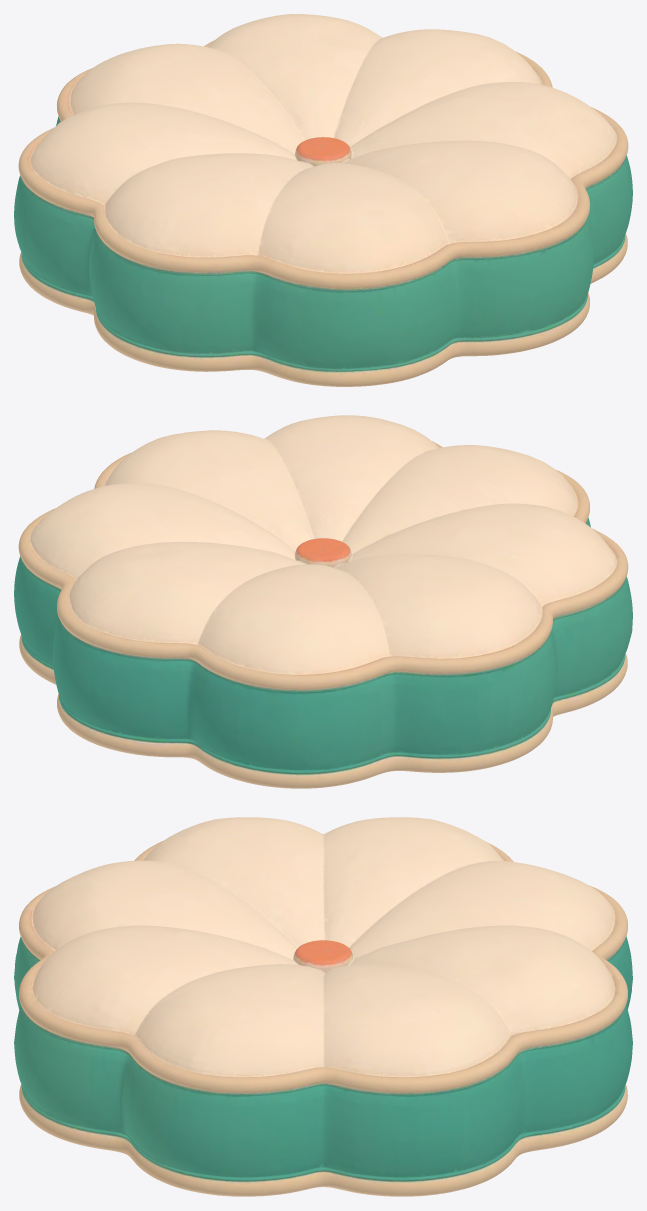
Rendered from majlis-cushion-variant-08-scalloped-flower.glb.
3 renders of one model, top to bottom at view 1: azimuth 30°, elevation 25°; view 2: azimuth 150°, elevation 25°; view 3: azimuth 270°, elevation 25°, orthographic. The views are drawn at different scales.
Parts seen in each view (by area): view 1: mesh_node; view 2: mesh_node; view 3: mesh_node.
Part boxes in pixels (<box>): mesh_node: <box>14,14,632,386</box>; mesh_node: <box>14,415,632,788</box>; mesh_node: <box>14,817,632,1196</box>.
Size of the model in its own units: 1.9 by 0.534 by 1.9.
Materials: 1 (1 with a texture image).
